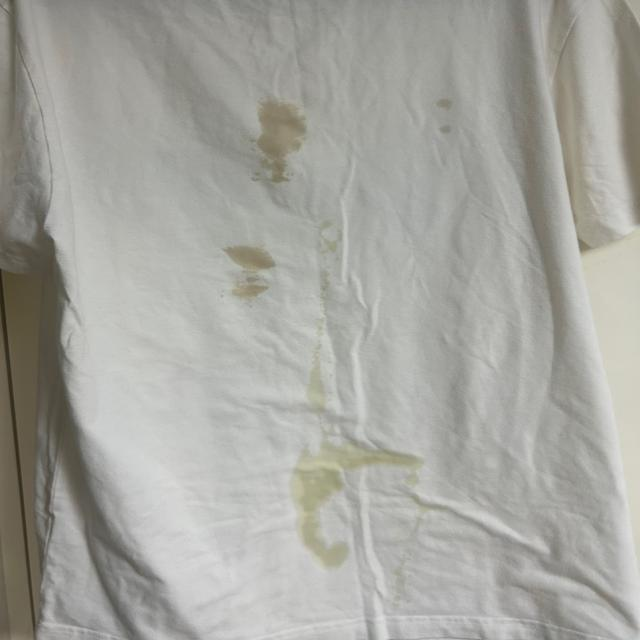stain: (276, 485, 361, 585), (280, 438, 428, 494), (246, 91, 321, 185), (219, 241, 294, 318), (293, 341, 332, 420), (421, 94, 467, 146), (302, 225, 351, 269)
